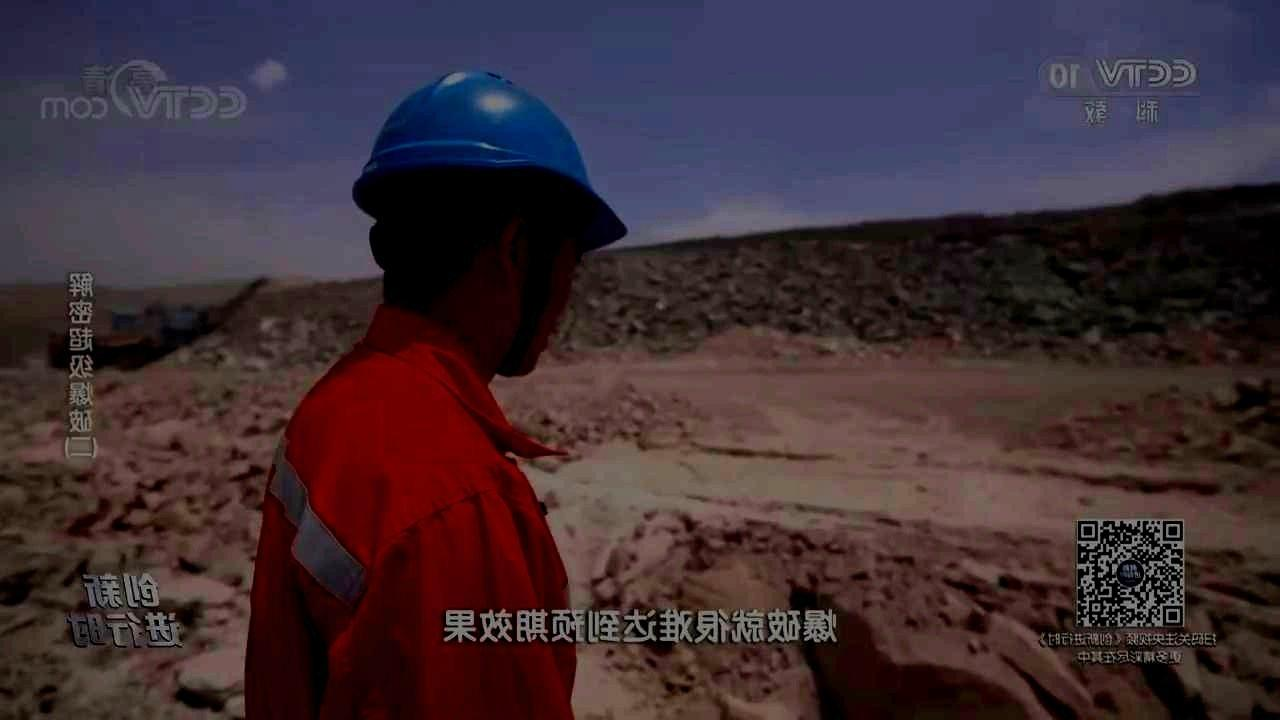helmet: (351, 68, 628, 378)
